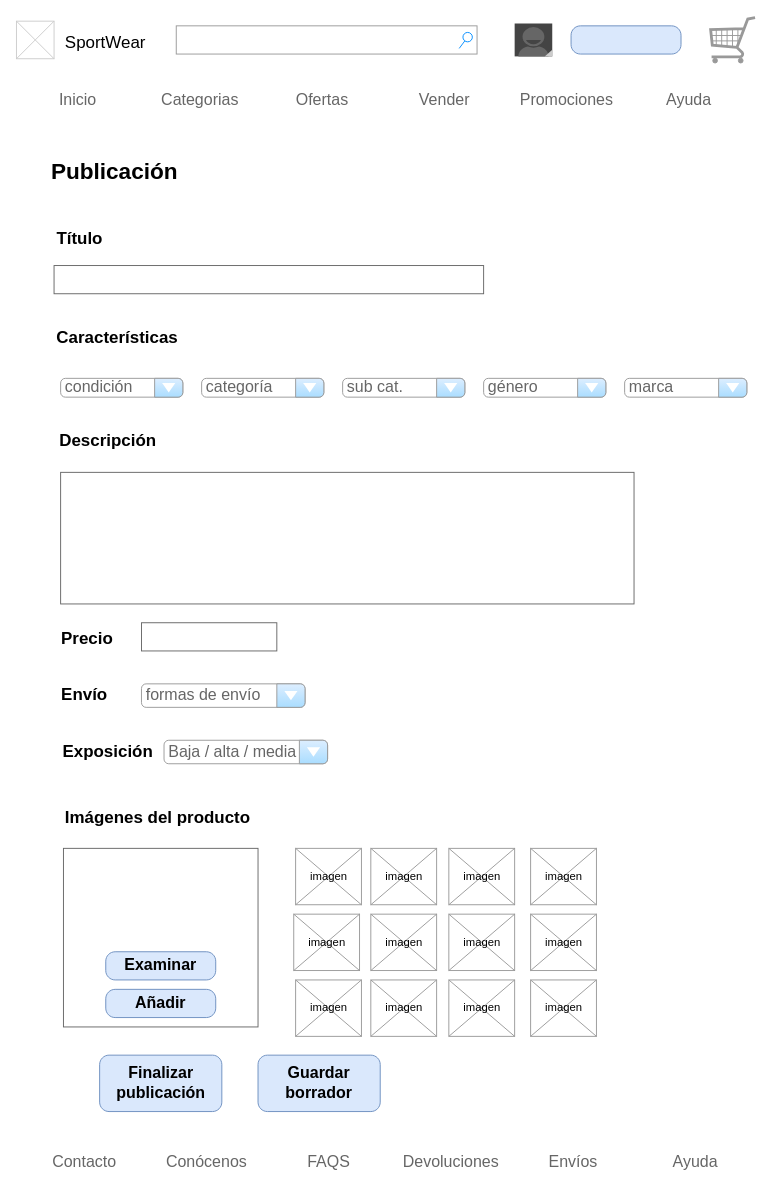
Image size: 773x1194. Some labels were removed from this diagram. The box of each missing label's shape, as (x1, y1, x2, y2) in pixels:
Arraste sus fotos aquí: (63, 847, 258, 1027)
Login: (570, 25, 681, 54)
Logo: (16, 20, 54, 59)
number: (141, 622, 277, 651)
text: (60, 471, 634, 604)
Use palabras claves para identificar su producto: (53, 265, 484, 294)
¿Qué estás buscando?: (175, 25, 477, 54)
